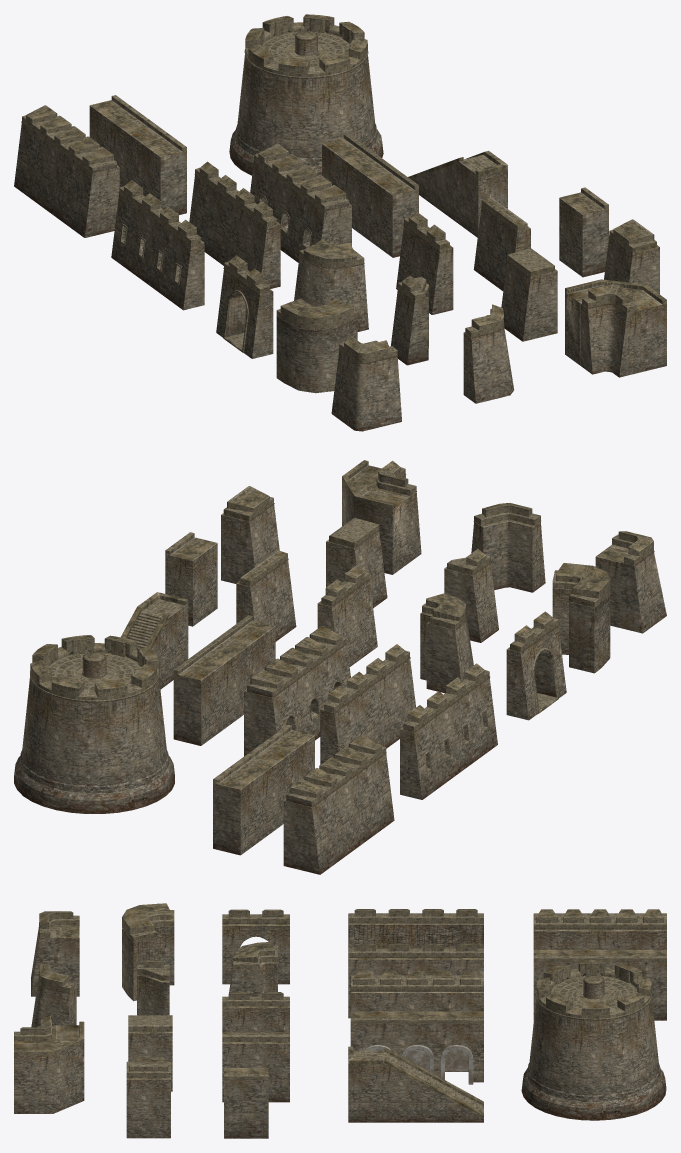
Rendered from modular_fort_01.glb.
The picture shows the model from 3 angles, top to bottom: view 1: azimuth 30°, elevation 25°; view 2: azimuth 150°, elevation 25°; view 3: azimuth 270°, elevation 25°; orthographic projection. The views are drawn at different scales.
Visible parts, largest first — view 1: modular_fort_01_tower_round, modular_fort_01_wall_thick_straight_01, modular_fort_01_wall_thin_straight_02, modular_fort_01_wall_thick_straight_02, modular_fort_01_wall_thin_straight_01, modular_fort_01_wall_walkway_straight_01, modular_fort_01_wall_walkway_straight_02, modular_fort_01_wall_thick_corner_02, modular_fort_01_wall_thin_corner_02, modular_fort_01_wall_thin_corner_01, modular_fort_01_wall_stairs_straight_01, modular_fort_01_wall_thin_gate_01 (+9 smaller); view 2: modular_fort_01_tower_round, modular_fort_01_wall_thick_straight_01, modular_fort_01_wall_thin_straight_02, modular_fort_01_wall_walkway_straight_01, modular_fort_01_wall_walkway_straight_02, modular_fort_01_wall_thick_straight_02, modular_fort_01_wall_thin_straight_01, modular_fort_01_wall_thick_corner_02, modular_fort_01_wall_thin_corner_03, modular_fort_01_wall_thin_gate_01, modular_fort_01_wall_thick_corner_01, modular_fort_01_wall_thick_end_02 (+10 smaller); view 3: modular_fort_01_tower_round, modular_fort_01_wall_stairs_straight_01, modular_fort_01_wall_walkway_straight_01, modular_fort_01_wall_walkway_corner_01, modular_fort_01_wall_thick_straight_02, modular_fort_01_wall_thick_straight_01, modular_fort_01_wall_thin_straight_02, modular_fort_01_wall_thin_straight_01, modular_fort_01_wall_thick_end_02, modular_fort_01_wall_thick_corner_02, modular_fort_01_wall_walkway_straight_02, modular_fort_01_wall_thin_straight_03 (+10 smaller).
Boxes of the visible parts, <box> form: modular_fort_01_tower_round: <box>229,14,383,175</box>; modular_fort_01_wall_thick_straight_01: <box>14,105,119,237</box>; modular_fort_01_wall_thin_straight_02: <box>111,180,204,310</box>; modular_fort_01_wall_thick_straight_02: <box>250,143,351,262</box>; modular_fort_01_wall_thin_straight_01: <box>189,161,280,288</box>; modular_fort_01_wall_walkway_straight_01: <box>322,133,418,257</box>; modular_fort_01_wall_walkway_straight_02: <box>89,95,186,214</box>; modular_fort_01_wall_thick_corner_02: <box>276,298,357,393</box>; modular_fort_01_wall_thin_corner_02: <box>331,336,401,431</box>; modular_fort_01_wall_thin_corner_01: <box>580,284,640,377</box>; modular_fort_01_wall_stairs_straight_01: <box>408,150,507,237</box>; modular_fort_01_wall_thin_gate_01: <box>216,255,273,358</box>; modular_fort_01_tower_round: <box>14,635,174,813</box>; modular_fort_01_wall_thick_straight_01: <box>283,735,394,874</box>; modular_fort_01_wall_thin_straight_02: <box>400,663,497,799</box>; modular_fort_01_wall_walkway_straight_01: <box>173,615,275,745</box>; modular_fort_01_wall_walkway_straight_02: <box>213,724,314,855</box>; modular_fort_01_wall_thick_straight_02: <box>244,626,350,756</box>; modular_fort_01_wall_thin_straight_01: <box>320,644,415,764</box>; modular_fort_01_wall_thick_corner_02: <box>552,563,610,673</box>; modular_fort_01_wall_thin_corner_03: <box>471,503,545,592</box>; modular_fort_01_wall_thin_gate_01: <box>506,611,566,720</box>; modular_fort_01_wall_thick_corner_01: <box>420,593,473,693</box>; modular_fort_01_wall_thick_end_02: <box>221,486,279,583</box>; modular_fort_01_tower_round: <box>521,960,666,1120</box>; modular_fort_01_wall_stairs_straight_01: <box>348,1046,483,1122</box>; modular_fort_01_wall_walkway_straight_01: <box>350,1011,483,1084</box>; modular_fort_01_wall_walkway_corner_01: <box>14,1021,84,1113</box>; modular_fort_01_wall_thick_straight_02: <box>350,971,483,1011</box>; modular_fort_01_wall_thick_straight_01: <box>533,909,666,949</box>; modular_fort_01_wall_thin_straight_02: <box>348,909,483,948</box>; modular_fort_01_wall_thin_straight_01: <box>348,943,483,1018</box>; modular_fort_01_wall_thick_end_02: <box>126,1057,170,1138</box>; modular_fort_01_wall_thick_corner_02: <box>122,903,174,1001</box>; modular_fort_01_wall_walkway_straight_02: <box>533,950,666,1020</box>; modular_fort_01_wall_thin_straight_03: <box>222,1032,289,1102</box>.
Bounding box in the file's own units: 42.67 × 13.67 × 71.38.
3 materials, 3 textured.
